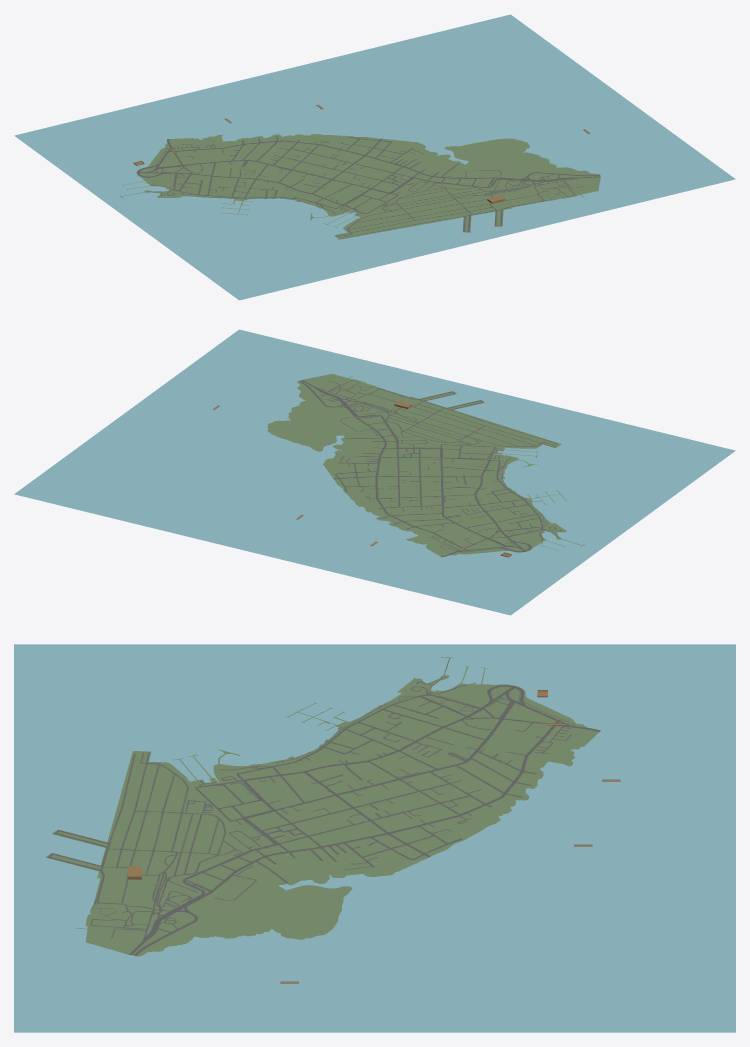
The model's file is manga-contract.glb.
3 views of the same model, one above another, from view 1: azimuth 30°, elevation 25°; view 2: azimuth 150°, elevation 25°; view 3: azimuth 270°, elevation 25° (orthographic). The views are drawn at different scales.
Visible parts, largest first — view 1: WaterLevel_Animated, Manga_Terrain_Base; view 2: WaterLevel_Animated, Manga_Terrain_Base; view 3: WaterLevel_Animated, Manga_Terrain_Base.
Part boxes in pixels (bbox=[...]): WaterLevel_Animated: bbox=[14, 14, 735, 300]; Manga_Terrain_Base: bbox=[120, 134, 600, 239]; WaterLevel_Animated: bbox=[14, 329, 735, 615]; Manga_Terrain_Base: bbox=[267, 374, 584, 557]; WaterLevel_Animated: bbox=[14, 644, 735, 1032]; Manga_Terrain_Base: bbox=[45, 657, 600, 956].
Size of what is drawn, in the model's own units: 2947 by 12.1 by 2315.
2 materials, 1 textured.
